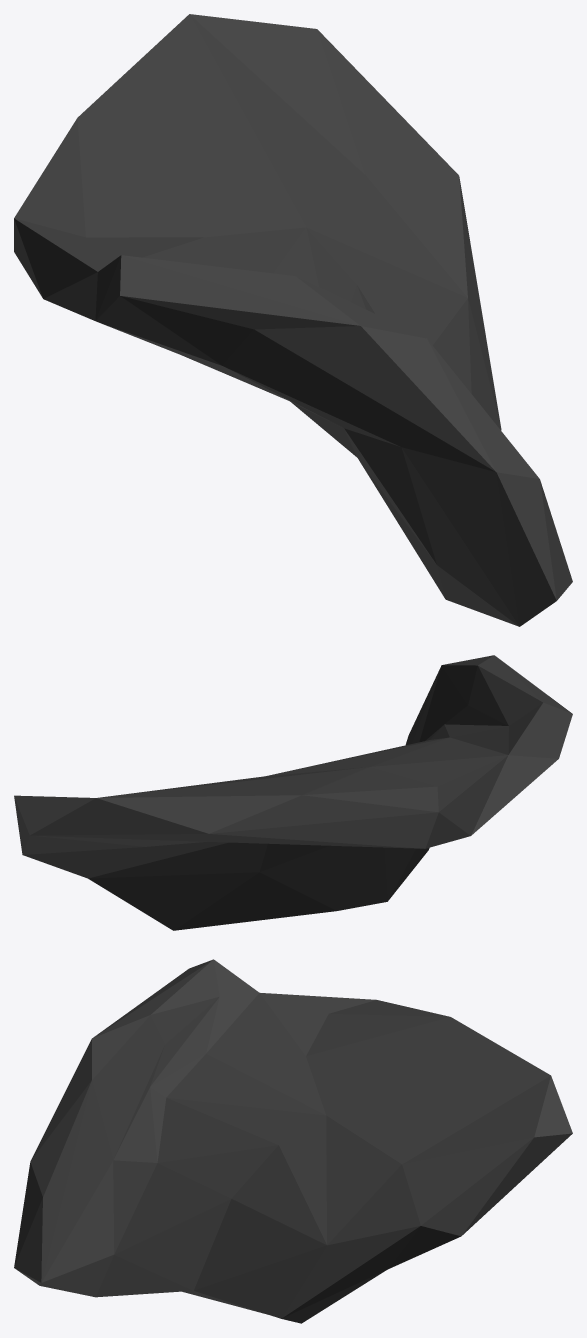
File: Tibia_extensor_groove.glb
3 views of the same model, one above another, from view 1: azimuth 30°, elevation 25°; view 2: azimuth 150°, elevation 25°; view 3: azimuth 270°, elevation 25° (orthographic). The views are drawn at different scales.
Parts seen in each view (by area): view 1: Tibia_extensor_groove; view 2: Tibia_extensor_groove; view 3: Tibia_extensor_groove.
Boxes of the visible parts, left/top/right/bottom form: Tibia_extensor_groove: left=14, top=14, right=572, bottom=626; Tibia_extensor_groove: left=14, top=655, right=572, bottom=930; Tibia_extensor_groove: left=14, top=959, right=572, bottom=1323.
Size of the model in its own units: 0.0108 by 0.00726 by 0.0149.
1 material, 1 textured.
